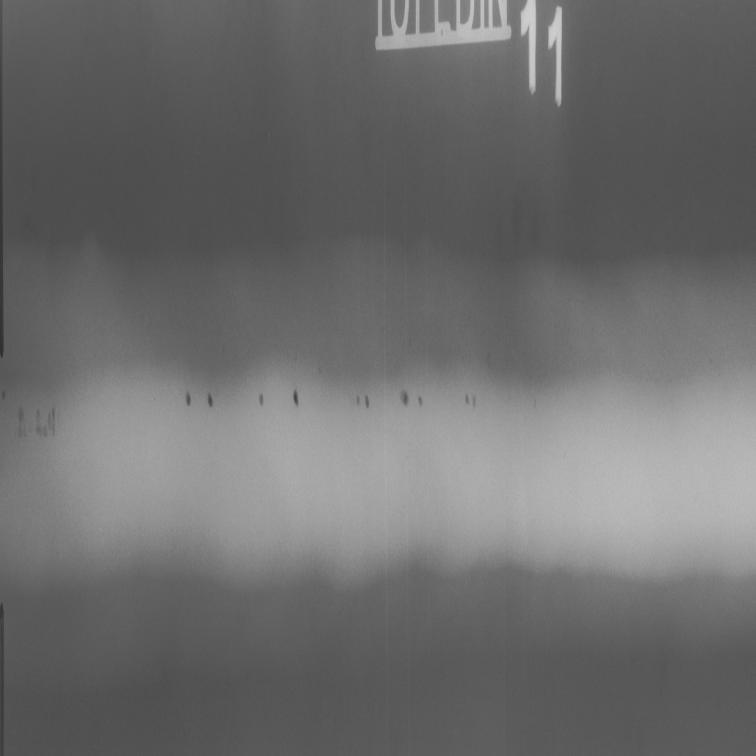IE: (16, 396, 61, 451)
PO: (255, 381, 267, 418), (292, 380, 302, 421), (183, 383, 194, 416), (532, 389, 541, 425), (206, 383, 214, 421), (400, 384, 410, 408), (464, 385, 471, 418), (364, 390, 372, 418), (471, 387, 478, 414), (355, 388, 360, 412), (417, 392, 423, 412), (1, 386, 7, 404)
